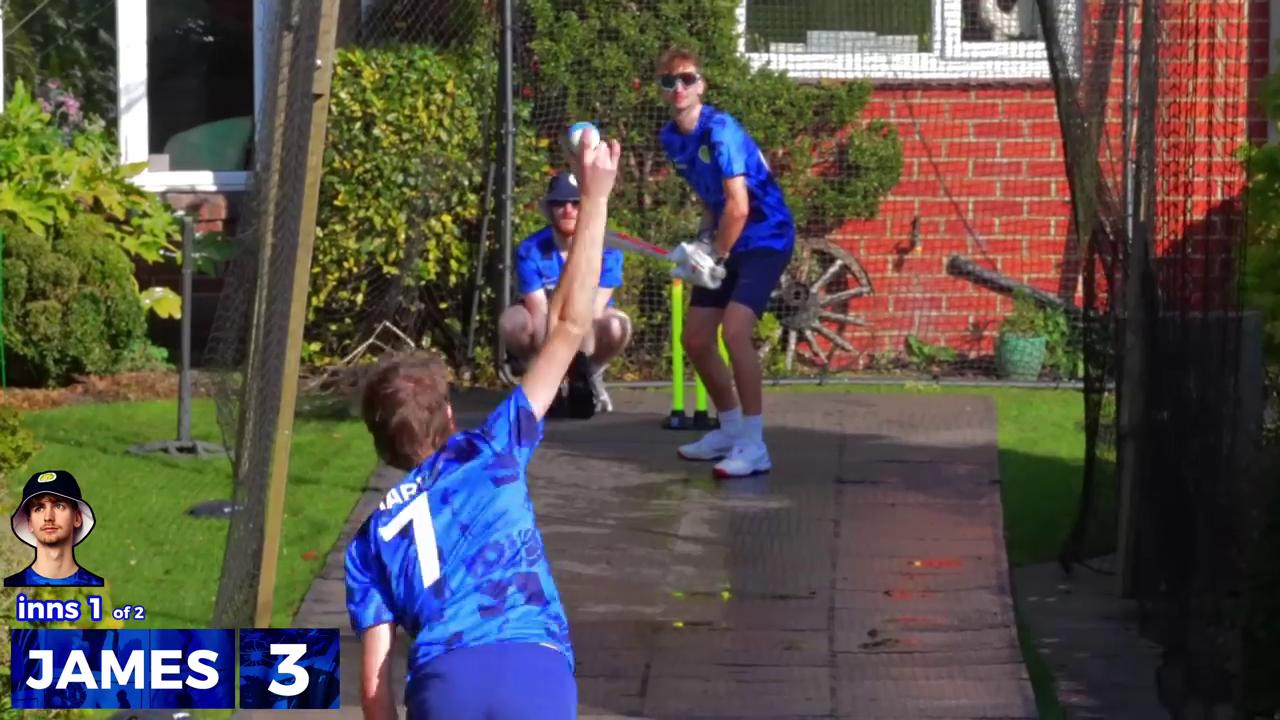ball: (559, 117, 601, 152)
